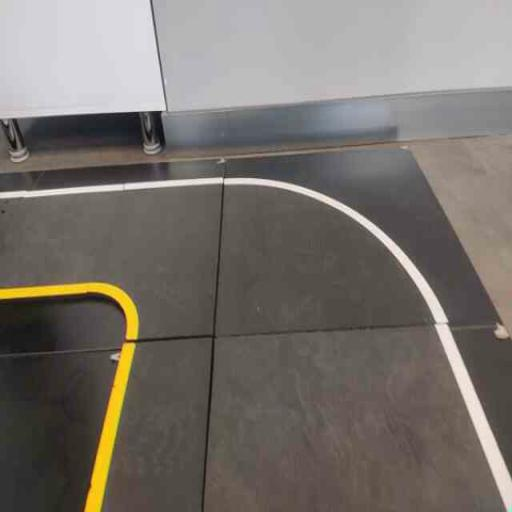straight: (81, 321, 511, 511)
